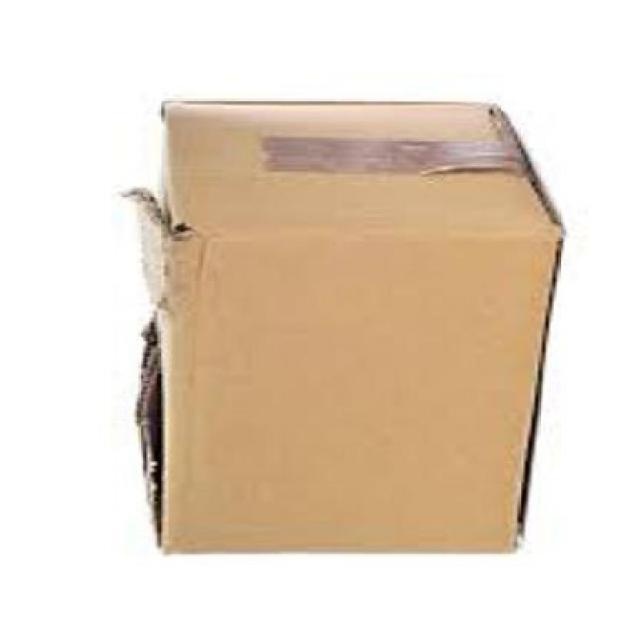defect: (115, 81, 568, 564)
